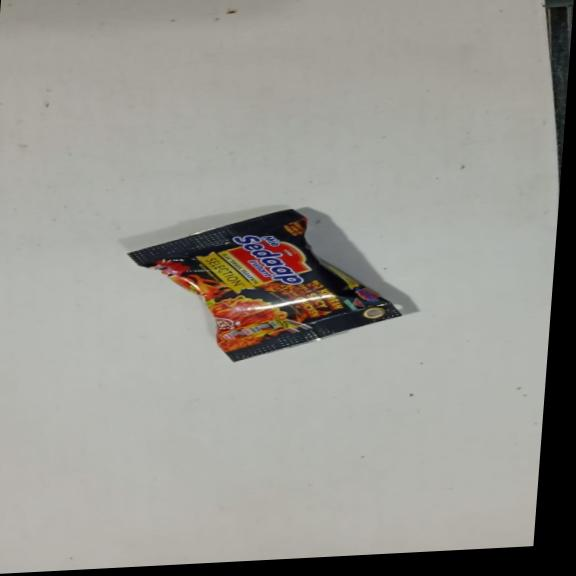Plastik: (118, 202, 413, 370)
